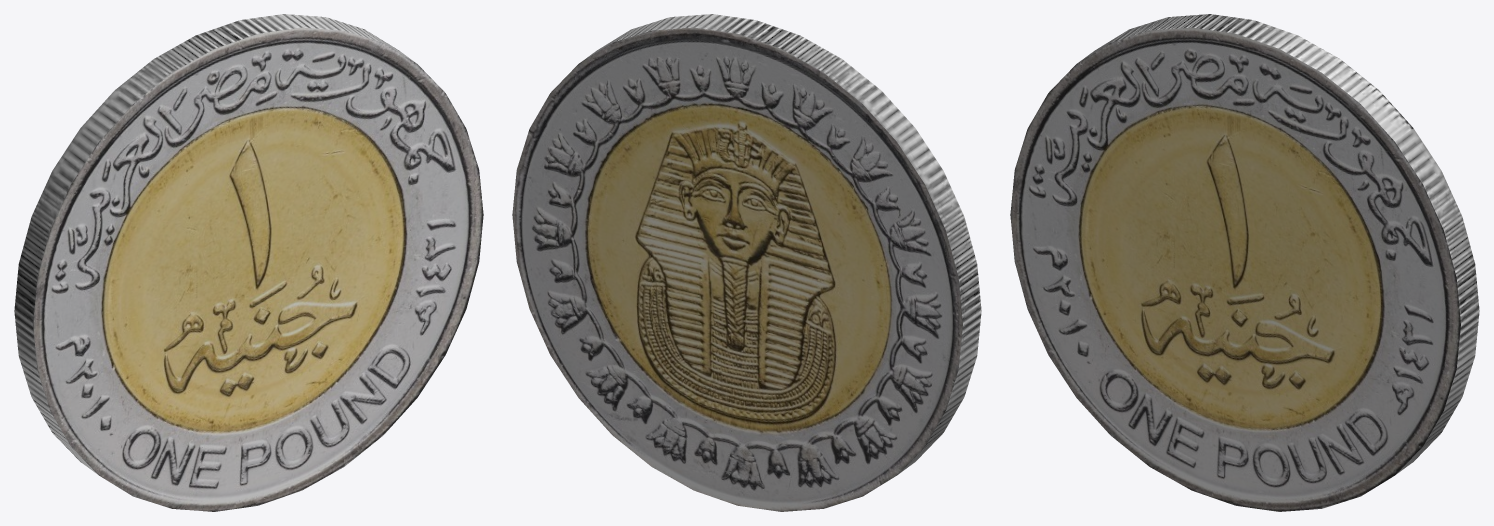
3 views of the same model, side by side, from view 1: azimuth 30°, elevation 25°; view 2: azimuth 150°, elevation 25°; view 3: azimuth 330°, elevation 25° (orthographic).
Parts seen in each view (by area): view 1: Cylinder; view 2: Cylinder; view 3: Cylinder.
Boxes of the visible parts, x1,y1,x2,y2 form: Cylinder: (14,14,483,511); Cylinder: (512,14,981,511); Cylinder: (1010,14,1479,511).
Bounding box in the file's own units: 2 × 2 × 0.143.
Materials: 3 (3 with a texture image).
